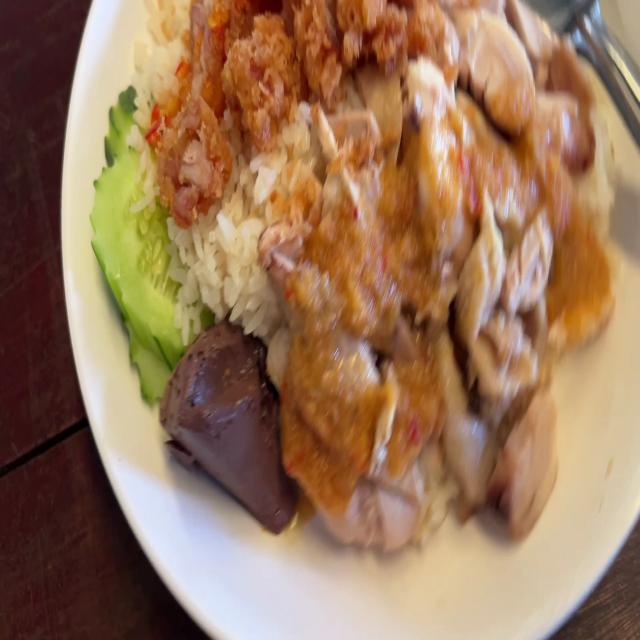boiled_chicken: (287, 8, 598, 510)
boiled_chicken_blood_jelly: (164, 320, 301, 534)
chicken_rice: (96, 0, 620, 532)
cucumber: (90, 87, 183, 384)
fried_chicken: (154, 0, 411, 173)
